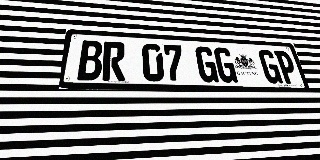0: (142, 43, 164, 82)
7: (162, 44, 186, 82)
B: (77, 40, 103, 81)
G: (213, 47, 238, 83), (257, 50, 283, 84), (195, 46, 219, 82)
P: (274, 50, 300, 84)
R: (102, 41, 125, 81)
